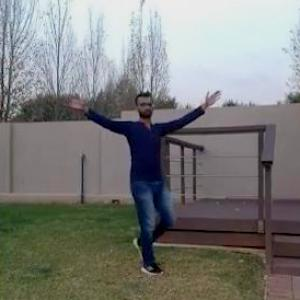takeoff: (56, 83, 221, 284)
